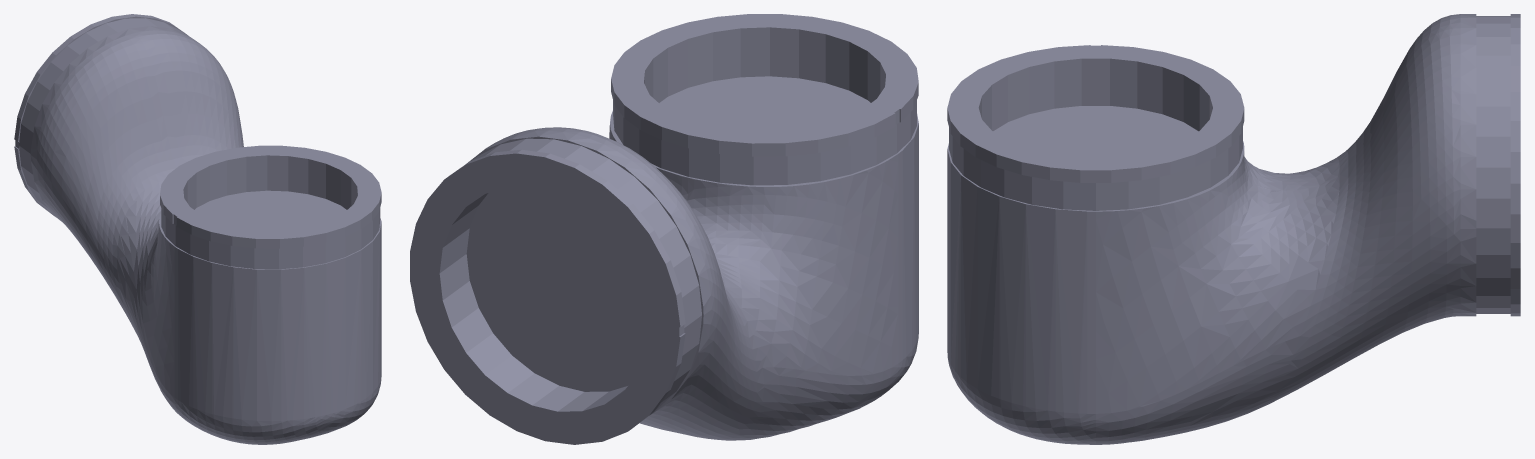
File: arm1_link5_visuals.obj
3 views of the same model, side by side, from view 1: azimuth 30°, elevation 25°; view 2: azimuth 150°, elevation 25°; view 3: azimuth 270°, elevation 25° (orthographic). The views are drawn at different scales.
Bounding box in the file's own units: 0.058 × 0.083 × 0.11.
